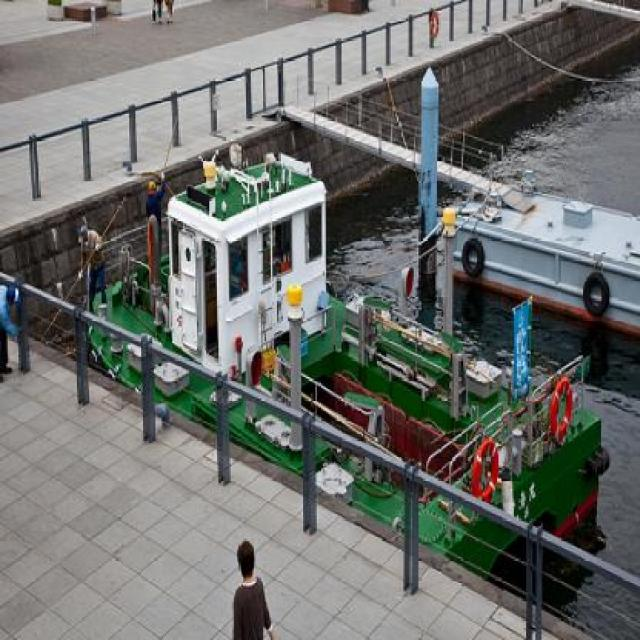ship: (24, 103, 614, 560)
